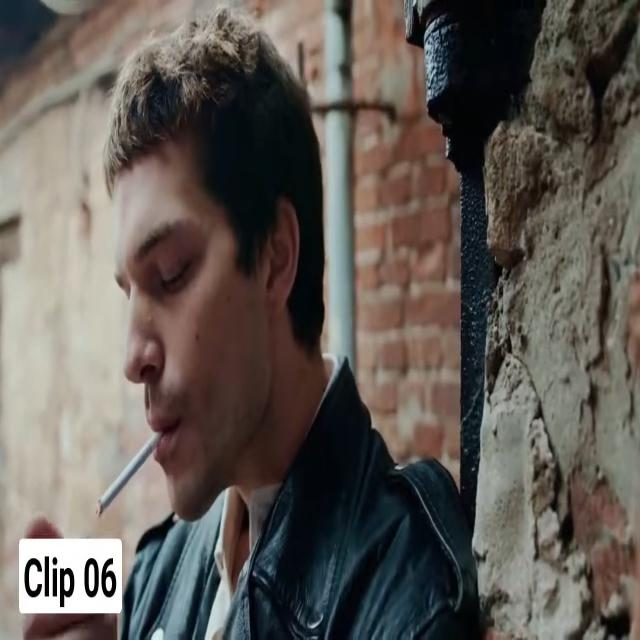Курение: (90, 427, 173, 514)
